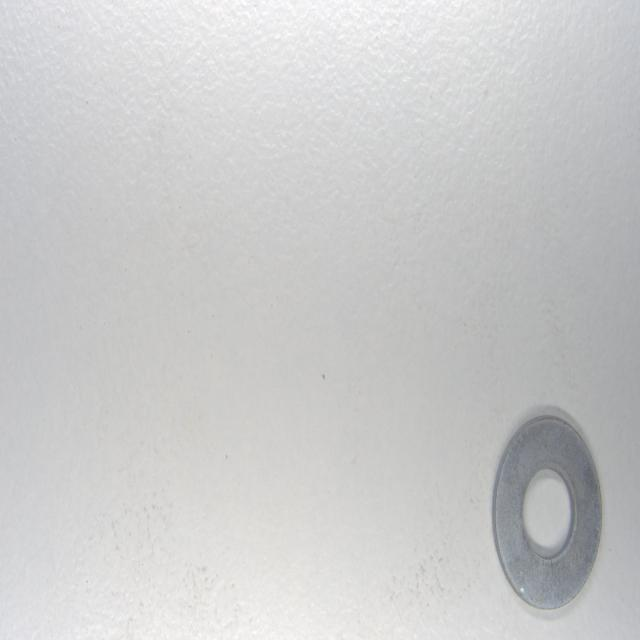washer: (493, 412, 605, 613)
